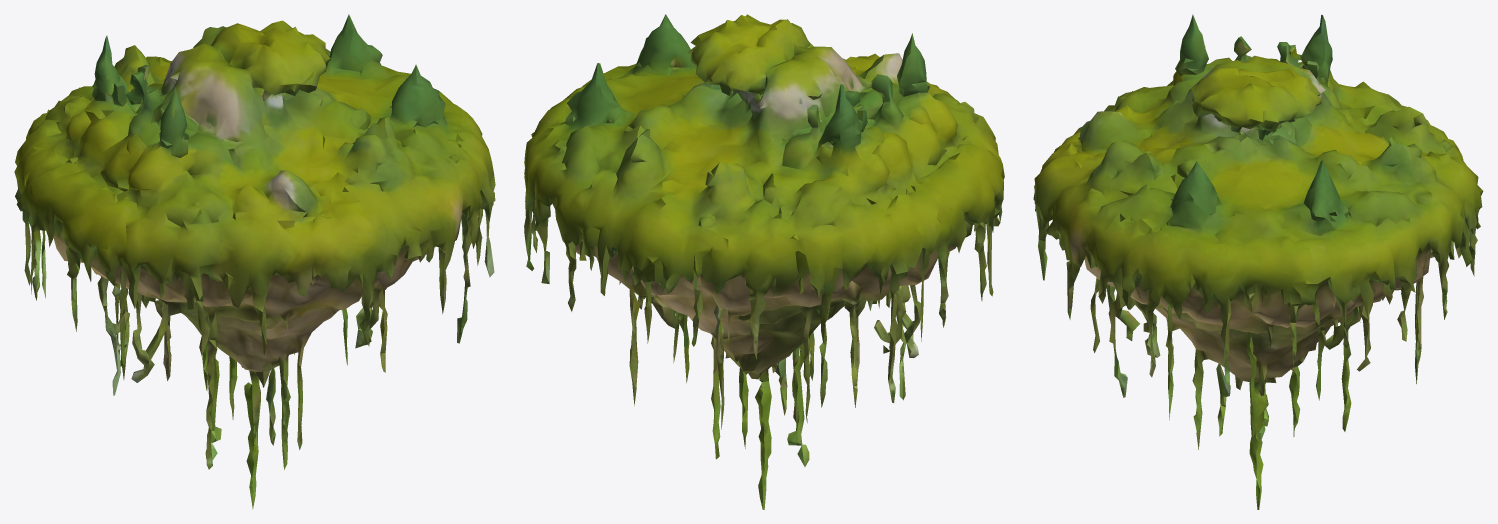
Rendered from isle-shelf-hd.glb.
3 views of the same model, side by side, from view 1: azimuth 30°, elevation 25°; view 2: azimuth 150°, elevation 25°; view 3: azimuth 270°, elevation 25° (orthographic). The views are drawn at different scales.
Visible parts, largest first — view 1: isle-shelf-hd.raw; view 2: isle-shelf-hd.raw; view 3: isle-shelf-hd.raw.
Boxes of the visible parts, x1=… form: isle-shelf-hd.raw: x1=14, y1=14, x2=495, y2=509; isle-shelf-hd.raw: x1=524, y1=14, x2=1004, y2=509; isle-shelf-hd.raw: x1=1033, y1=14, x2=1483, y2=509.
Size of the model in its own units: 9.03 by 9.99 by 9.16.
1 material, 1 textured.
